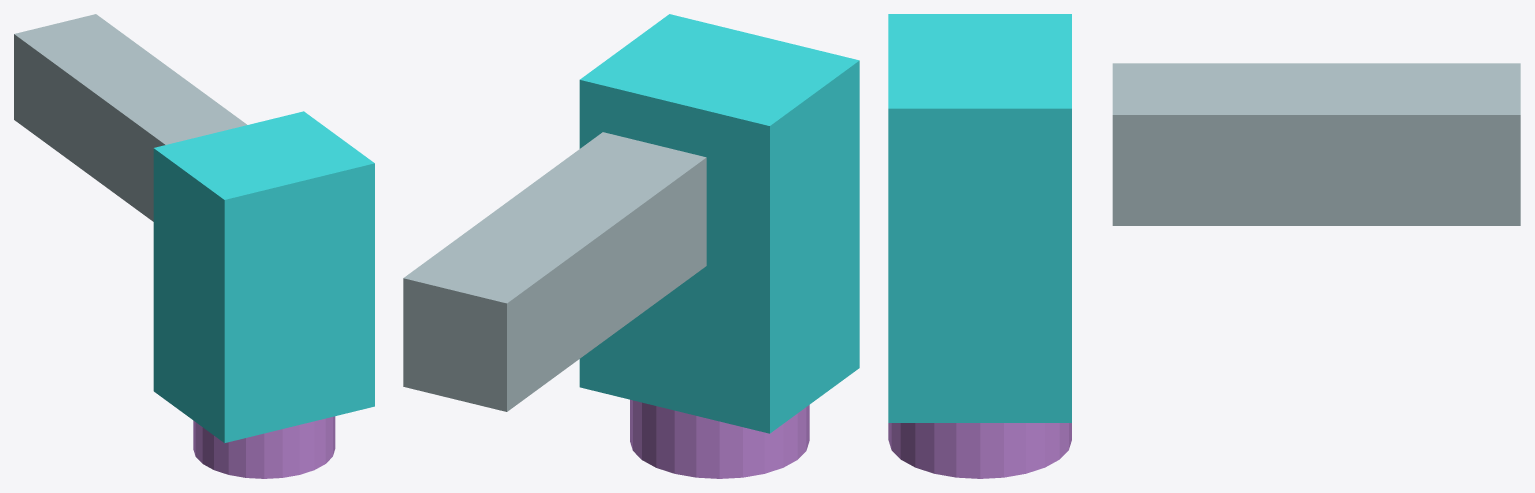
The model's file is security-camera.glb.
The picture shows the model from 3 angles, left to right: view 1: azimuth 30°, elevation 25°; view 2: azimuth 150°, elevation 25°; view 3: azimuth 270°, elevation 25°; orthographic projection. The views are drawn at different scales.
Parts seen in each view (by area): view 1: world; view 2: world; view 3: world.
Boxes of the visible parts, x1,y1,x2,y2 form: world: (14, 14, 374, 478); world: (403, 14, 859, 478); world: (888, 14, 1520, 478).
Size of the model in its own units: 0.22 by 0.41 by 0.62.
